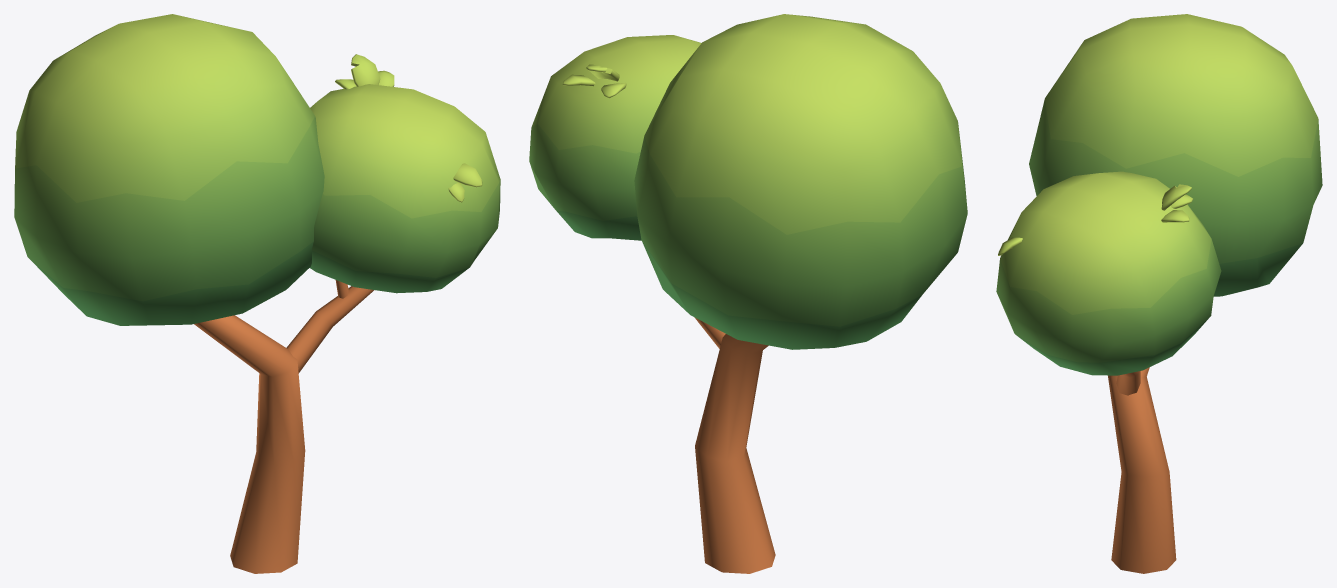
File: platform_kit034.fbx
The picture shows the model from 3 angles, left to right: view 1: azimuth 30°, elevation 25°; view 2: azimuth 150°, elevation 25°; view 3: azimuth 270°, elevation 25°; orthographic projection. The views are drawn at different scales.
Visible parts, largest first — view 1: platform_kit034; view 2: platform_kit034; view 3: platform_kit034.
Boxes of the visible parts, x1,y1,x2,y2 form: platform_kit034: (14,14,500,573); platform_kit034: (529,14,967,573); platform_kit034: (996,14,1322,573).
Bounding box in the file's own units: 342 × 416 × 249.
Materials: 1 (1 with a texture image).
